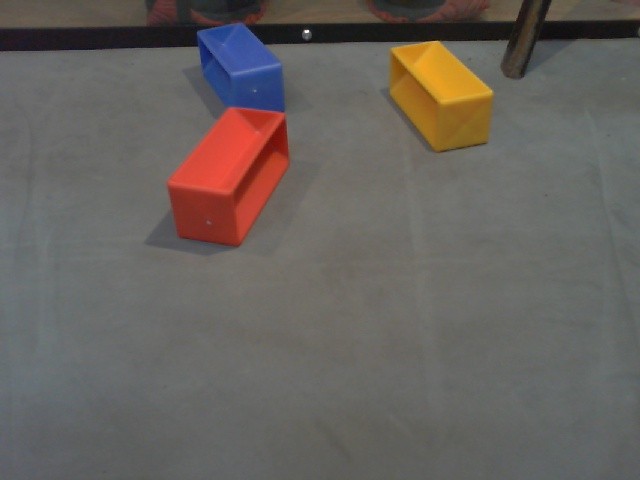BlueSample: (194, 19, 286, 117)
RedSample: (166, 104, 293, 249)
YellowSample: (381, 38, 499, 157)
